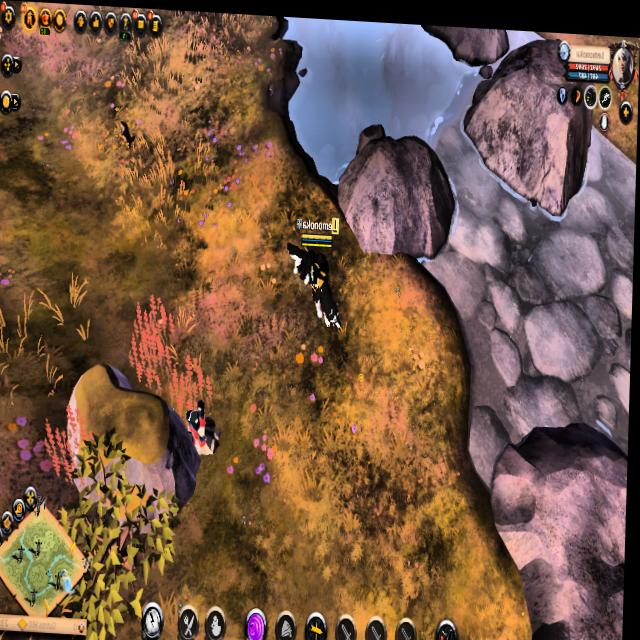ore tier 5: (185, 389, 225, 458)
